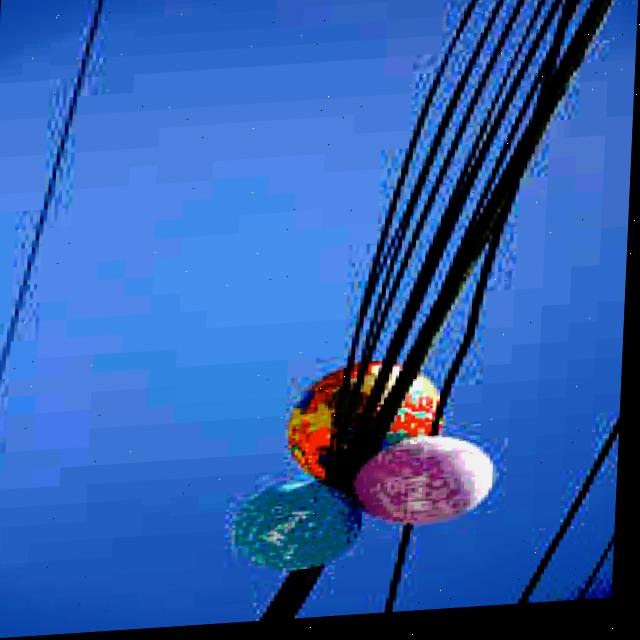obstruction: (352, 385, 497, 531), (295, 369, 385, 501), (246, 517, 333, 573)
wires: (329, 0, 617, 495), (0, 0, 107, 395), (523, 428, 624, 611), (268, 573, 329, 625), (572, 544, 620, 609), (390, 534, 421, 618)
